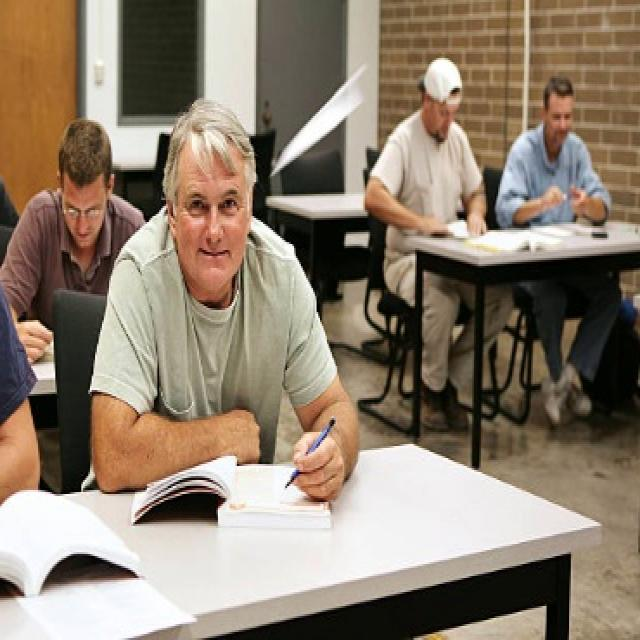adult: (80, 96, 348, 494), (363, 63, 481, 424), (0, 124, 148, 361)
